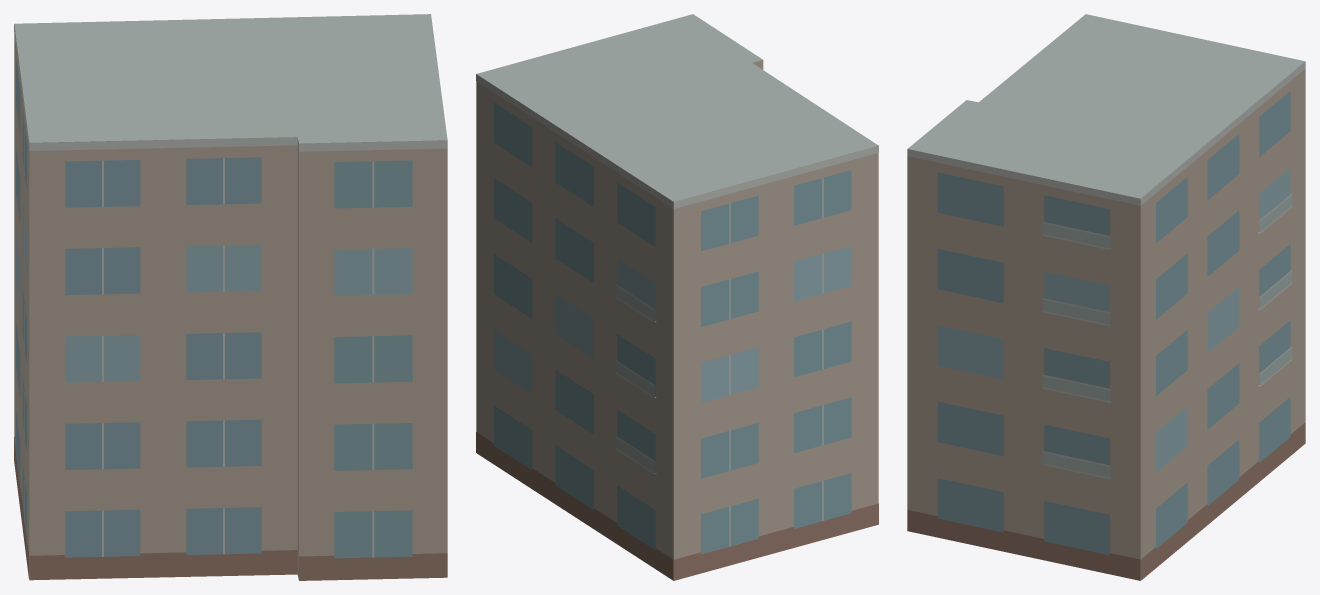
Rendered from survey-upis-32649397.glb.
The picture shows the model from 3 angles, left to right: view 1: azimuth 30°, elevation 25°; view 2: azimuth 150°, elevation 25°; view 3: azimuth 270°, elevation 25°; orthographic projection. The views are drawn at different scales.
Parts seen in each view (by area): view 1: survey-upis-32649397.tmp; view 2: survey-upis-32649397.tmp; view 3: survey-upis-32649397.tmp.
Boxes of the visible parts, left/top/right/bottom form: survey-upis-32649397.tmp: left=14, top=14, right=447, bottom=580; survey-upis-32649397.tmp: left=476, top=14, right=878, bottom=580; survey-upis-32649397.tmp: left=907, top=14, right=1305, bottom=580.
Size of the model in its own units: 13.38 by 12.9 by 12.19.
